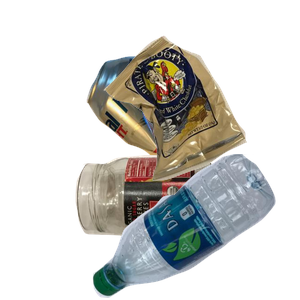glass: (73, 153, 284, 300)
metal: (84, 53, 279, 202)
plastic: (90, 154, 300, 300)
trash: (101, 33, 300, 206)
